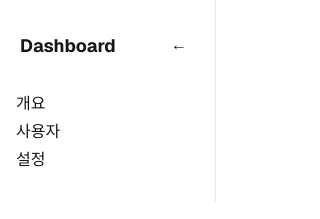
Scenario: Sidebar › 토글 버튼 클릭 시 nav 항목이 첫 글자만 표시된다
This screenshot has width=320, height=219.
Click the button named "사이드바 토글".
click(179, 45)  # box [163,32,195,58]
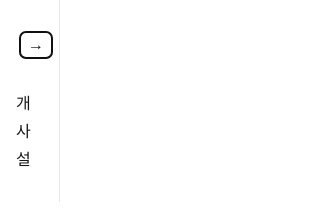
expect the link "개" is shown: met, box [16,93,31,114]
expect the link "개요" is gone: met
